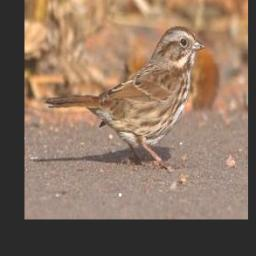Sparrow: (43, 20, 204, 173)
